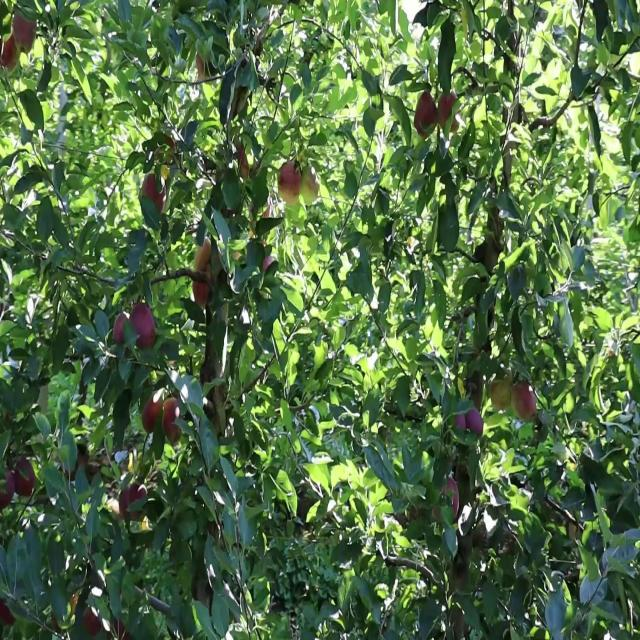apple: (132, 305, 157, 350), (512, 383, 537, 425), (120, 483, 148, 519), (12, 14, 37, 52), (280, 163, 303, 204), (416, 99, 436, 140), (164, 398, 183, 441), (144, 177, 167, 212), (16, 462, 36, 500), (492, 376, 512, 412), (144, 398, 161, 434), (440, 92, 456, 130), (444, 476, 460, 514), (4, 35, 19, 71), (116, 312, 130, 348), (196, 241, 212, 272), (192, 284, 211, 309), (4, 469, 16, 508), (160, 135, 176, 162), (84, 611, 101, 636), (468, 412, 484, 436), (240, 149, 250, 180), (196, 56, 206, 84), (164, 135, 176, 155), (456, 419, 468, 434), (264, 255, 273, 272)
